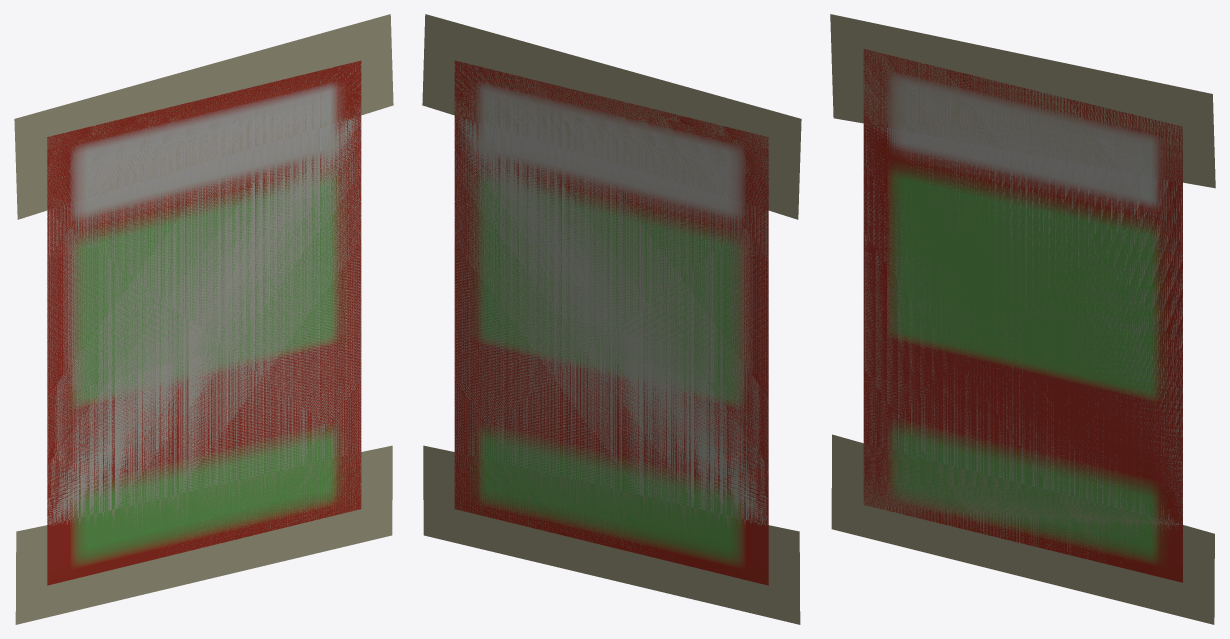
The model's file is SM_Bld_Window_Poster_Inside_06.obj.
The picture shows the model from 3 angles, left to right: view 1: azimuth 30°, elevation 25°; view 2: azimuth 150°, elevation 25°; view 3: azimuth 330°, elevation 25°; orthographic projection.
Visible parts, largest first — view 1: SM_Bld_Window_Poster_Inside_06_0; view 2: SM_Bld_Window_Poster_Inside_06_0; view 3: SM_Bld_Window_Poster_Inside_06_0.
Boxes of the visible parts, x1,y1,x2,y2 form: SM_Bld_Window_Poster_Inside_06_0: (14,14,393,624); SM_Bld_Window_Poster_Inside_06_0: (422,14,801,624); SM_Bld_Window_Poster_Inside_06_0: (830,14,1215,624).
Bounding box in the file's own units: 0.2044 × 0.2689 × 0.
1 material, 1 textured.
